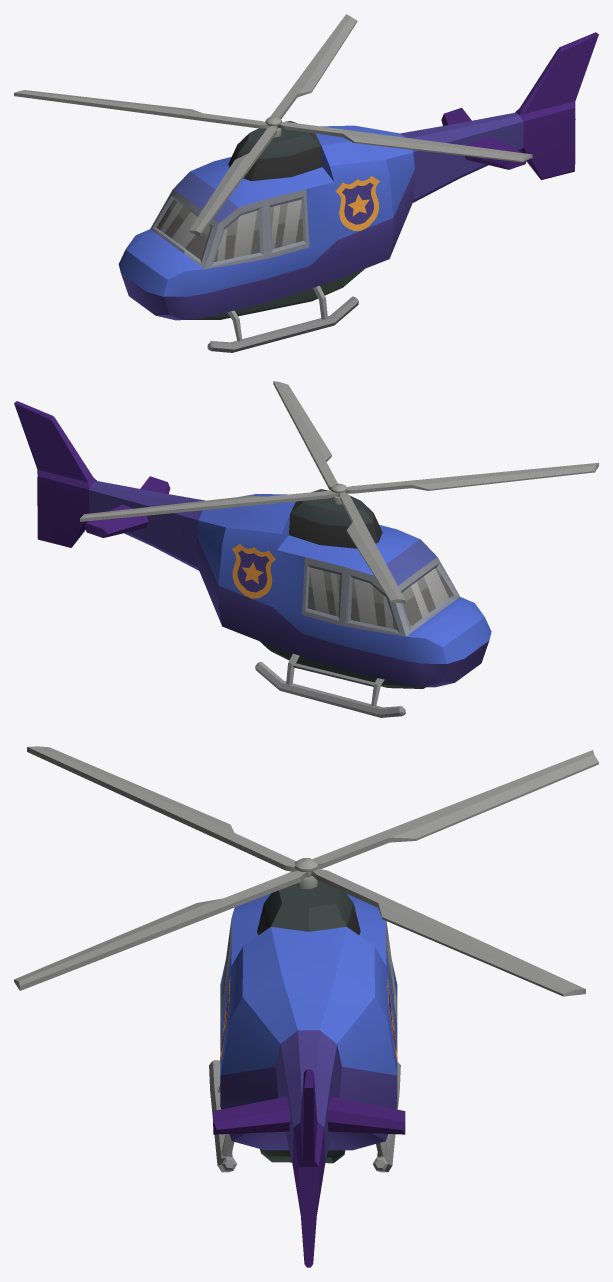
The model's file is Helicopter_2_A.fbx.
The picture shows the model from 3 angles, top to bottom: view 1: azimuth 30°, elevation 25°; view 2: azimuth 150°, elevation 25°; view 3: azimuth 270°, elevation 25°; orthographic projection. The views are drawn at different scales.
Visible parts, largest first — view 1: Helicopter_2_A, Rotator_main; view 2: Helicopter_2_A, Rotator_main; view 3: Helicopter_2_A, Rotator_main.
Part boxes in pixels (box(x1,y1,x2,y2)): Helicopter_2_A: box(118, 32, 598, 352); Rotator_main: box(14, 14, 532, 236); Helicopter_2_A: box(14, 401, 491, 717); Rotator_main: box(80, 381, 598, 603); Helicopter_2_A: box(209, 880, 405, 1267); Rotator_main: box(14, 746, 598, 996).
Bounding box in the file's own units: 10.45 × 4.02 × 7.19.
